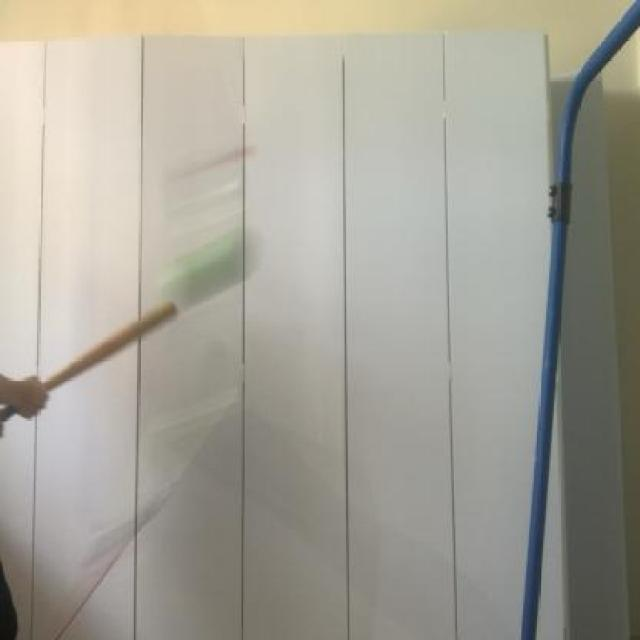baseball: (155, 211, 268, 324)
